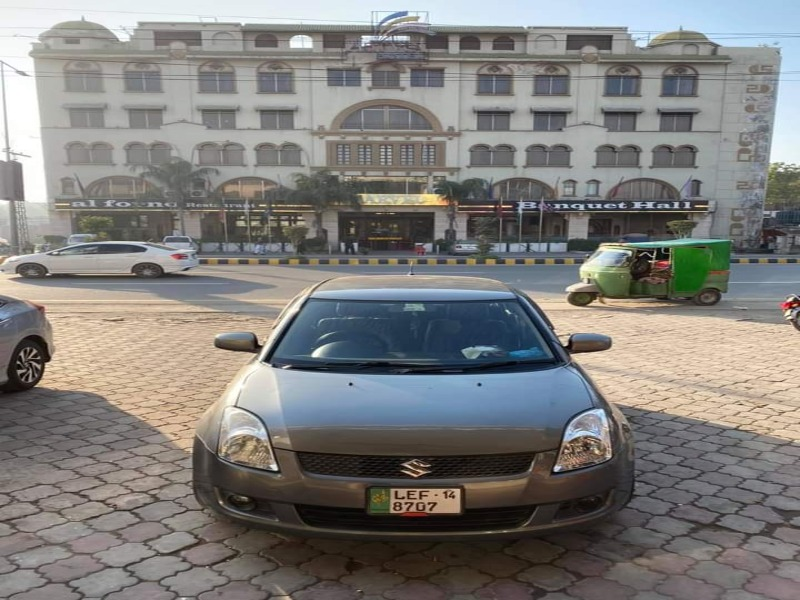License Plate: (361, 480, 472, 521)
